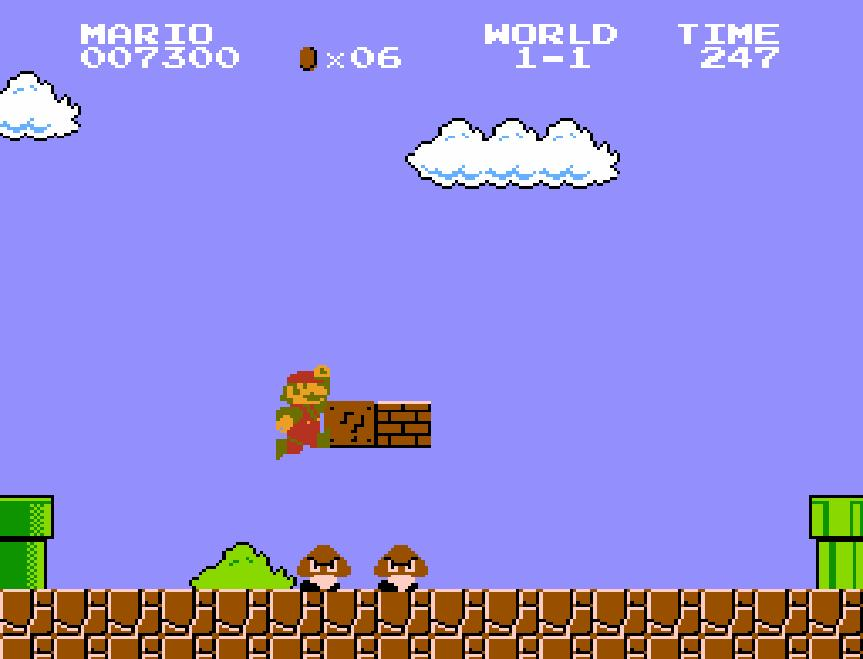big_mario: (274, 363, 332, 461)
